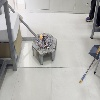fire: (40, 31, 46, 40), (45, 45, 47, 48)
